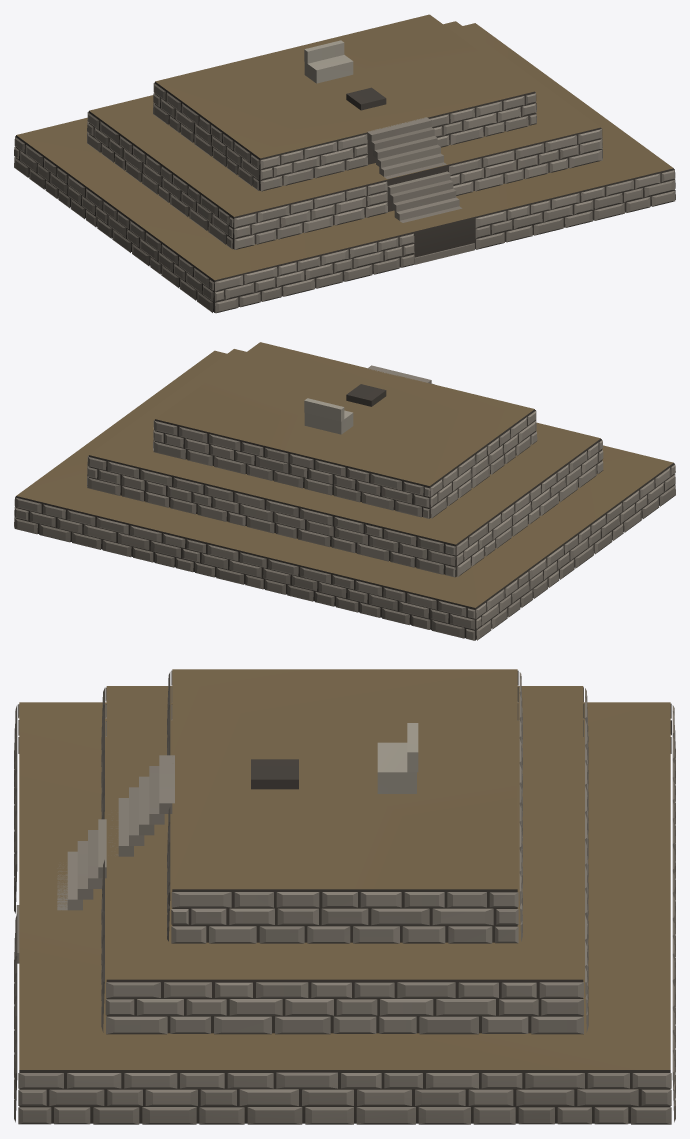
File: cusco_ushnu_lod0.glb
3 views of the same model, one above another, from view 1: azimuth 30°, elevation 25°; view 2: azimuth 150°, elevation 25°; view 3: azimuth 270°, elevation 25° (orthographic). The views are drawn at different scales.
Visible parts, largest first — view 1: GEO-Arch_cusco_ushnu_LOD0; view 2: GEO-Arch_cusco_ushnu_LOD0; view 3: GEO-Arch_cusco_ushnu_LOD0.
Boxes of the visible parts, x1,y1,x2,y2 form: GEO-Arch_cusco_ushnu_LOD0: (14, 14, 675, 313); GEO-Arch_cusco_ushnu_LOD0: (14, 342, 675, 640); GEO-Arch_cusco_ushnu_LOD0: (14, 669, 675, 1124).
Size of the model in its own units: 20.14 by 5.1 by 15.14.
